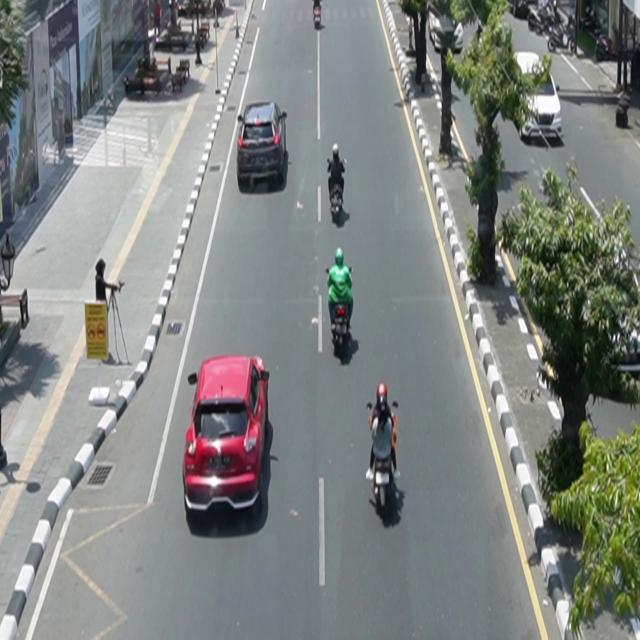car: (183, 355, 271, 517), (512, 52, 563, 143), (238, 102, 289, 187)
